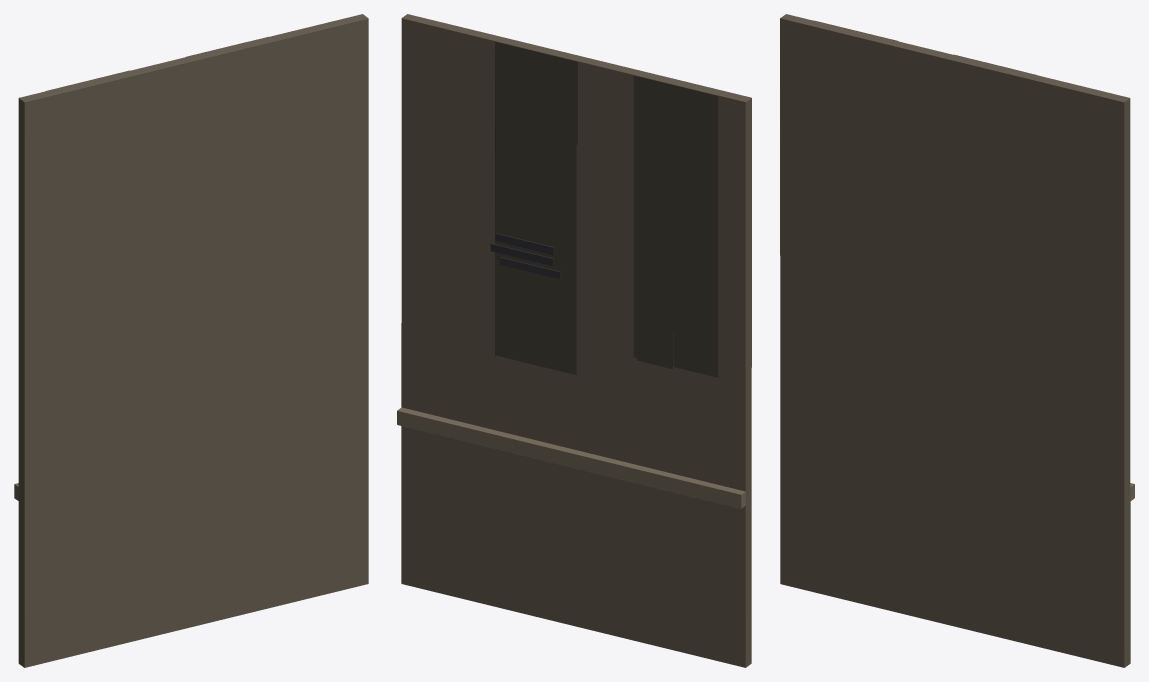
File: SM_ENV_FachadaLisaAlta.fbx
3 renders of one model, left to right at view 1: azimuth 30°, elevation 25°; view 2: azimuth 150°, elevation 25°; view 3: azimuth 330°, elevation 25°, orthographic.
Visible parts, largest first — view 1: SM_ENV_FachadaLisaAlta; view 2: SM_ENV_FachadaLisaAlta; view 3: SM_ENV_FachadaLisaAlta.
Part boxes in pixels (bbox=[...]): SM_ENV_FachadaLisaAlta: bbox=[14, 14, 368, 667]; SM_ENV_FachadaLisaAlta: bbox=[397, 14, 751, 667]; SM_ENV_FachadaLisaAlta: bbox=[780, 14, 1134, 667].
Bounding box in the file's own units: 2 × 3.14 × 0.1061.
